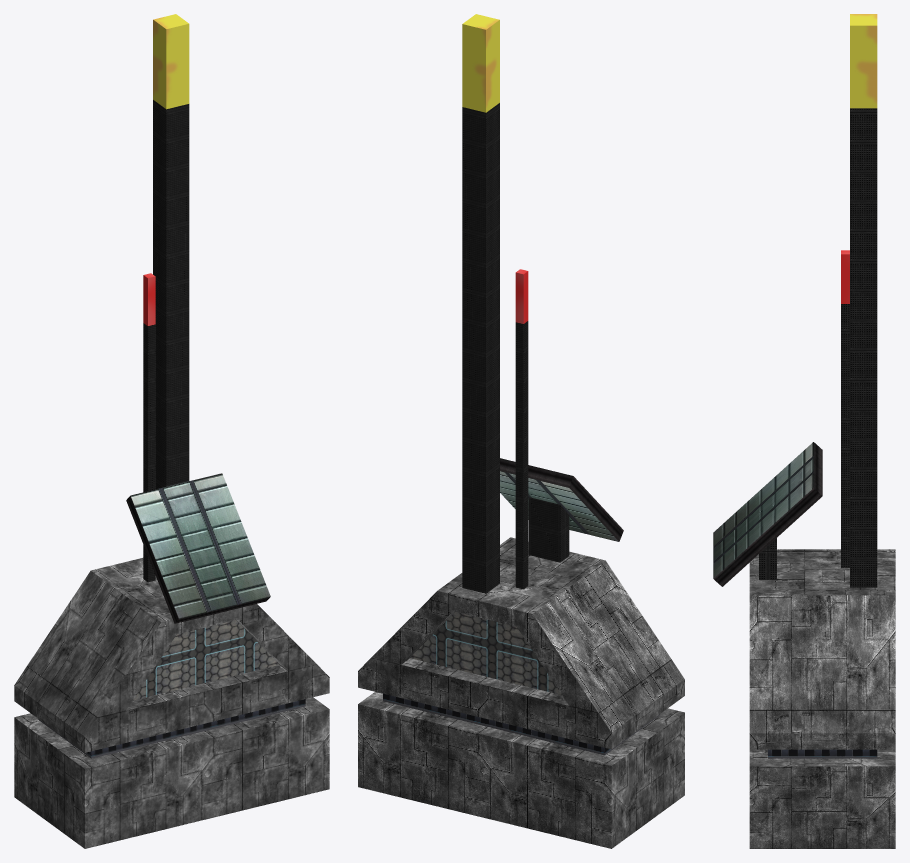
Rendered from fallout_beacon.fbx.
The picture shows the model from 3 angles, left to right: view 1: azimuth 30°, elevation 25°; view 2: azimuth 150°, elevation 25°; view 3: azimuth 270°, elevation 25°; orthographic projection. The views are drawn at different scales.
Parts seen in each view (by area): view 1: Object; view 2: Object; view 3: Object.
Part boxes in pixels (x1,y1,x2,y2): Object: (14, 14, 329, 848); Object: (358, 14, 684, 848); Object: (713, 14, 895, 848).
Size of the model in its own units: 3200 by 9400 by 2000.
